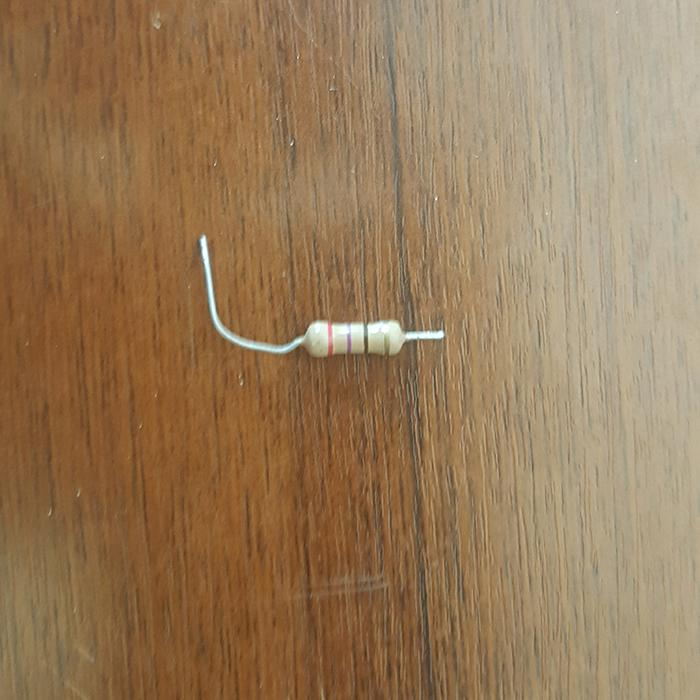resistor: (300, 318, 413, 358)
